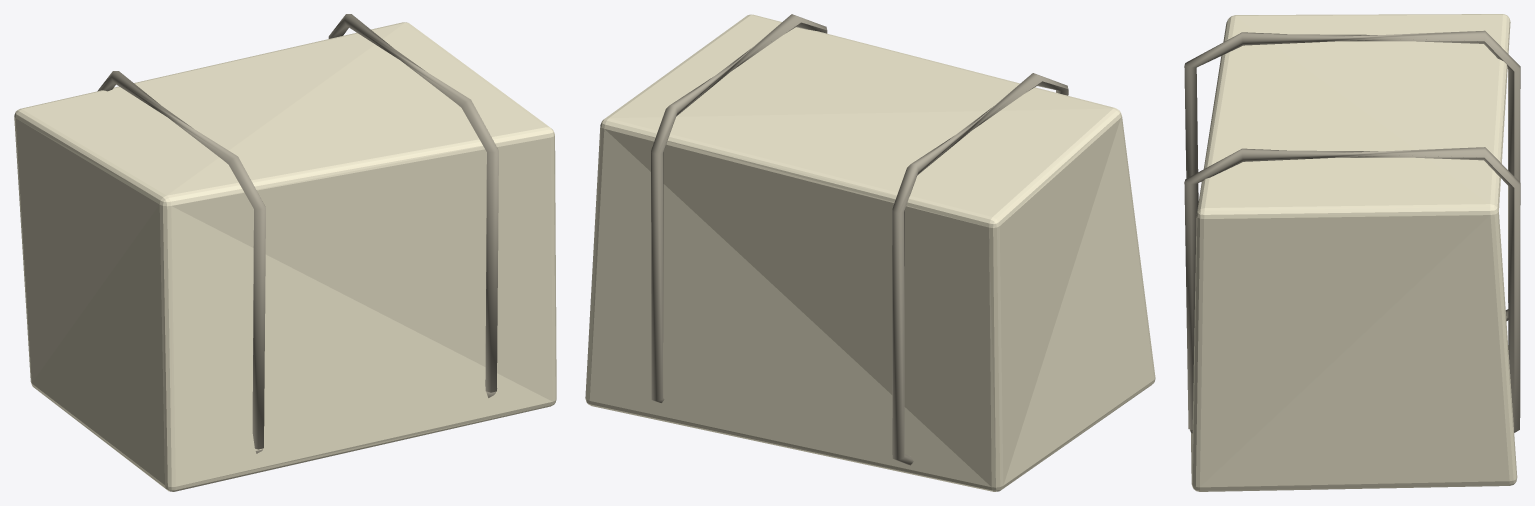
The model's file is SM_WLA_Haybale_A.fbx.
3 renders of one model, left to right at view 1: azimuth 30°, elevation 25°; view 2: azimuth 150°, elevation 25°; view 3: azimuth 270°, elevation 25°, orthographic. The views are drawn at different scales.
Parts seen in each view (by area): view 1: SM_WLA_Haybale_A; view 2: SM_WLA_Haybale_A; view 3: SM_WLA_Haybale_A.
Part boxes in pixels (box(x1,y1,x2,y2)): SM_WLA_Haybale_A: box(14, 14, 556, 491); SM_WLA_Haybale_A: box(585, 14, 1155, 491); SM_WLA_Haybale_A: box(1184, 14, 1520, 491).
Size of what is drawn, in the model's own units: 0.9033 by 1.26 by 0.9263.
